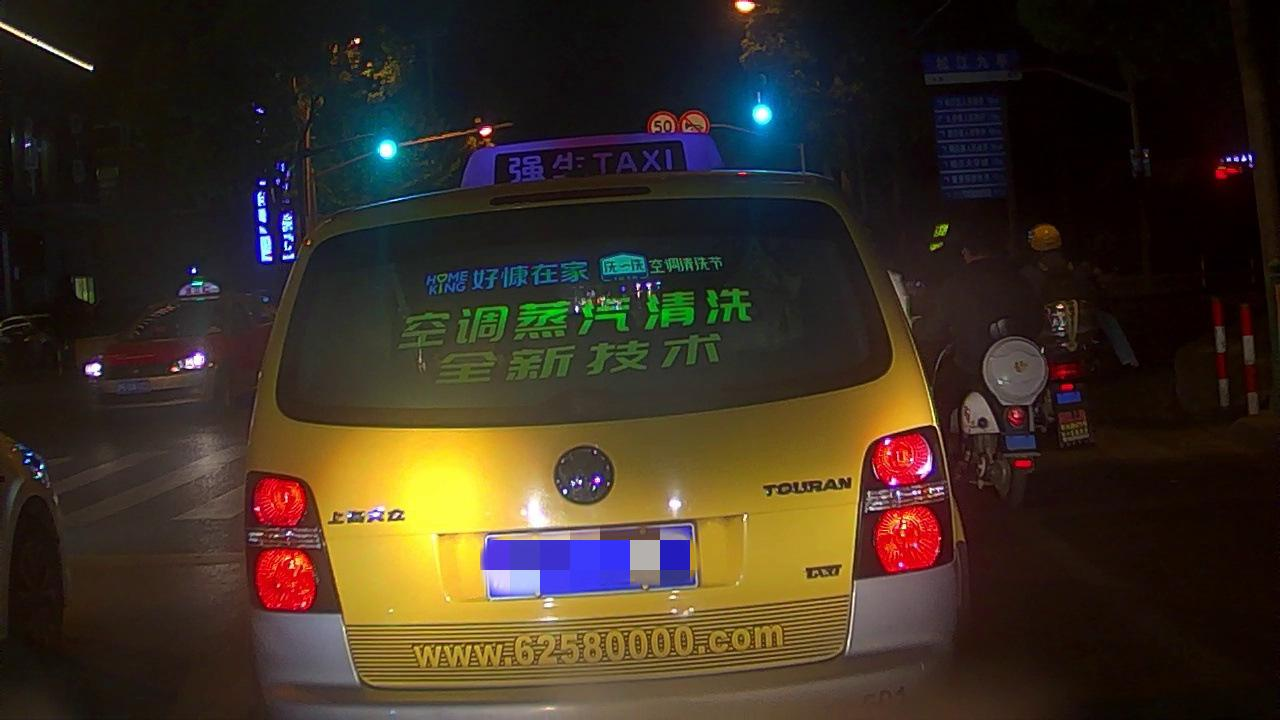traffic_light: (751, 74, 778, 131), (373, 110, 400, 163)
